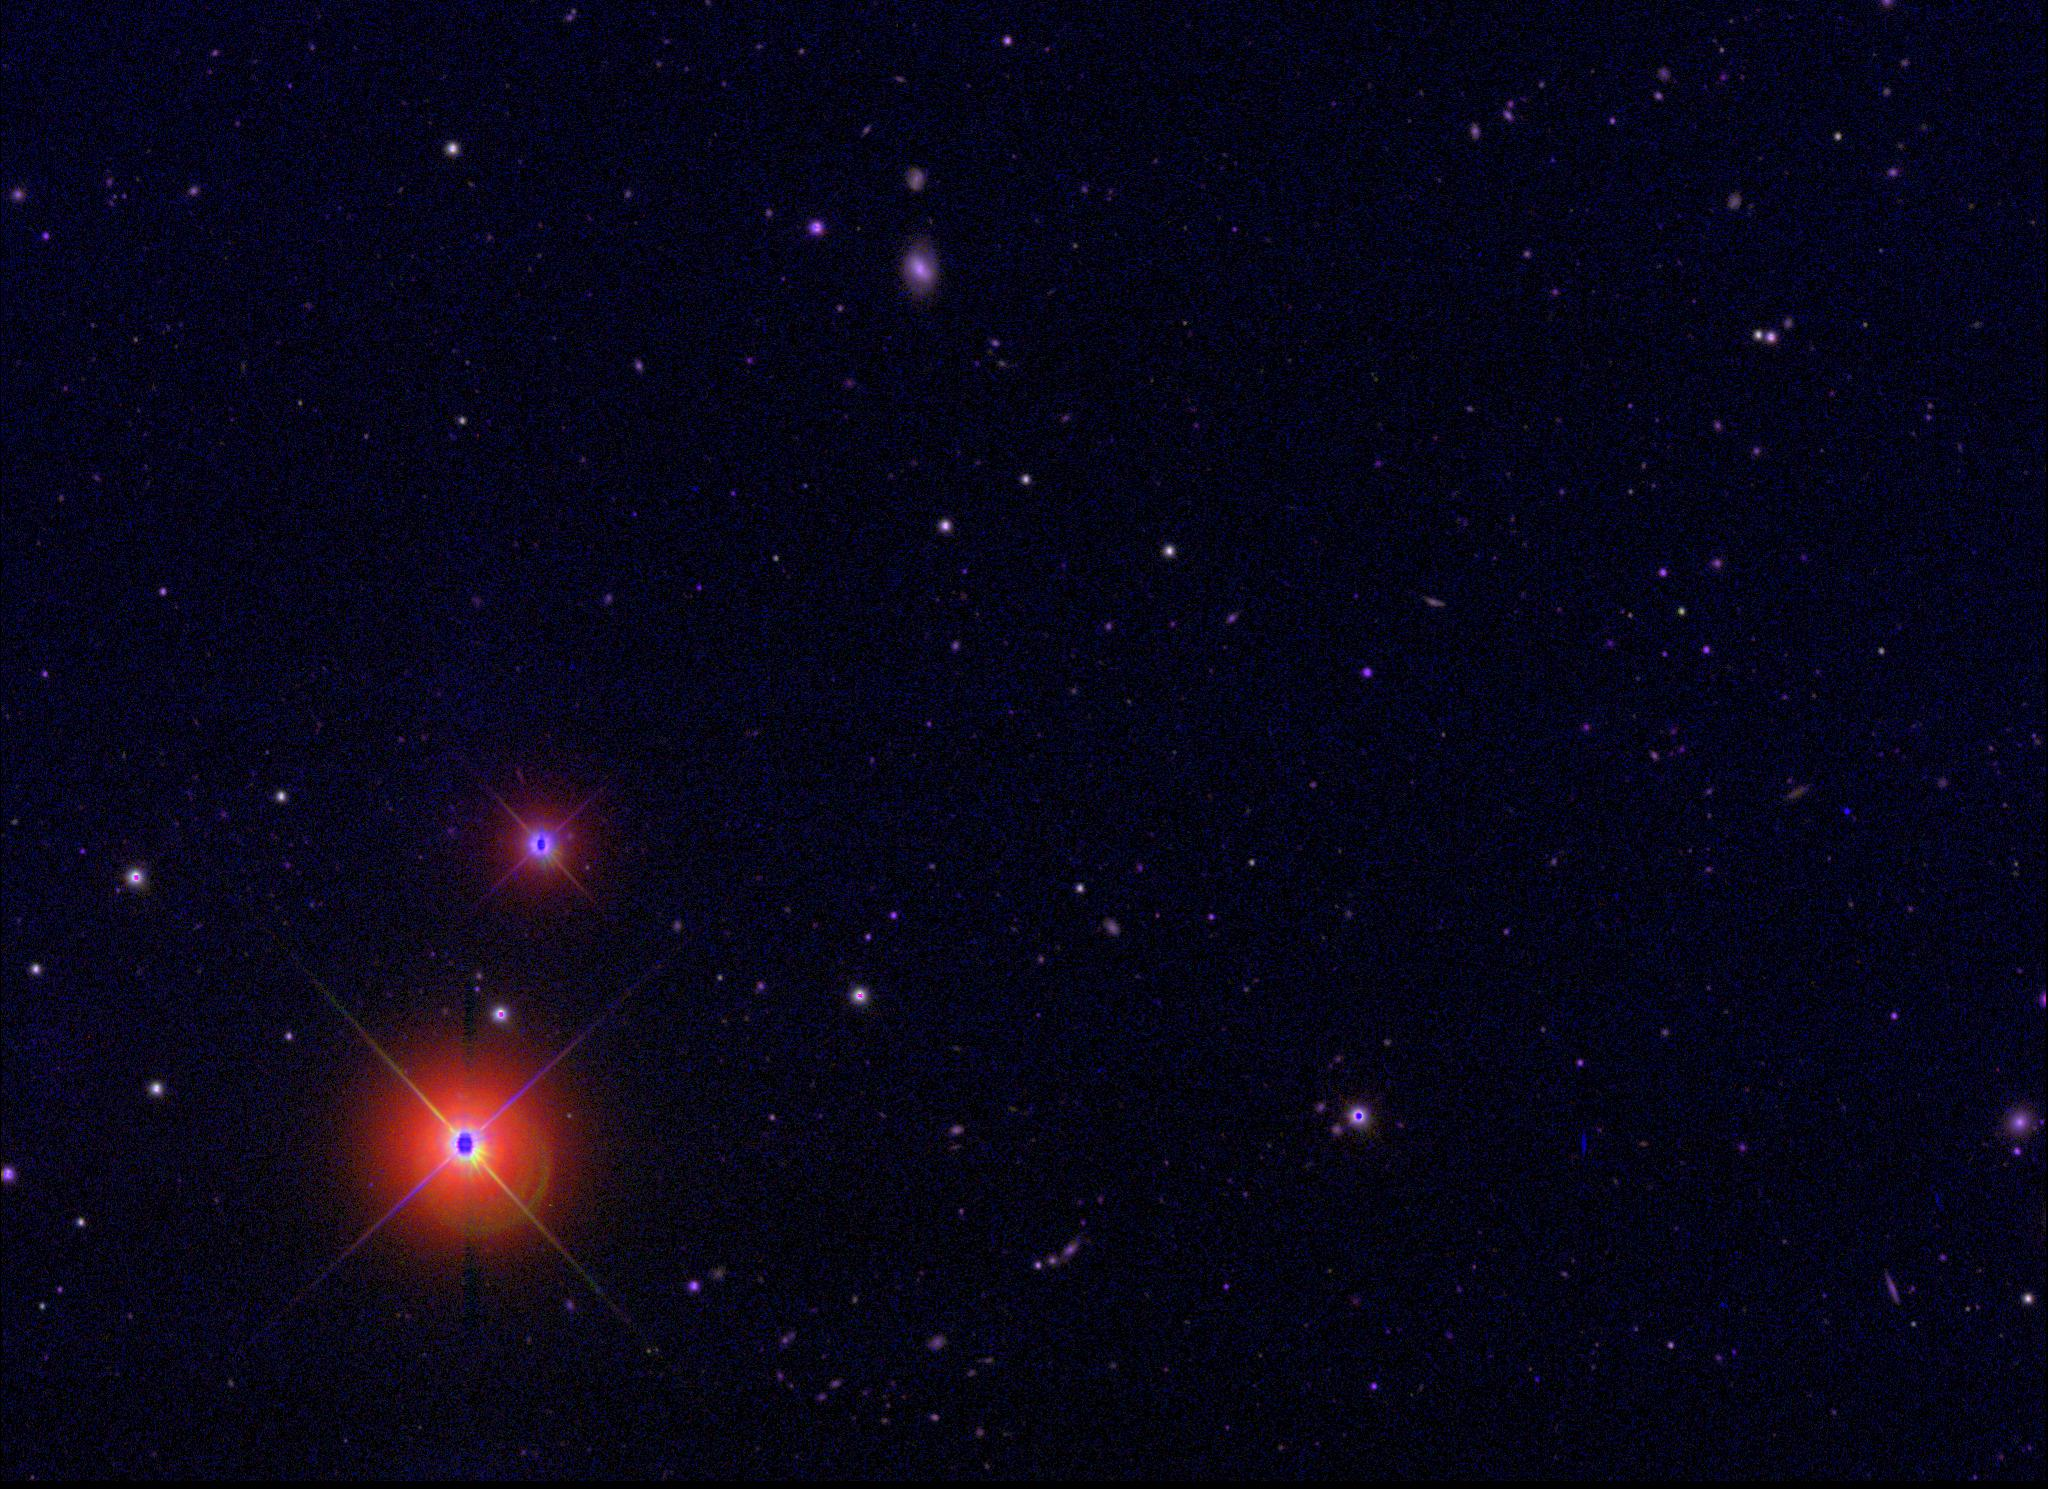L: (1840, 803, 1854, 818)
